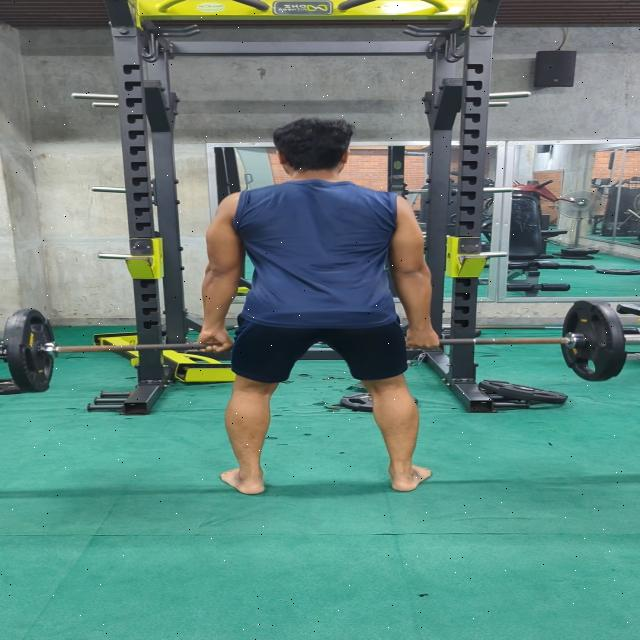Normal_Deadlifts: (195, 120, 441, 494)
